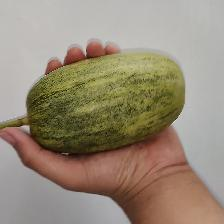gua: (40, 65, 177, 131)
